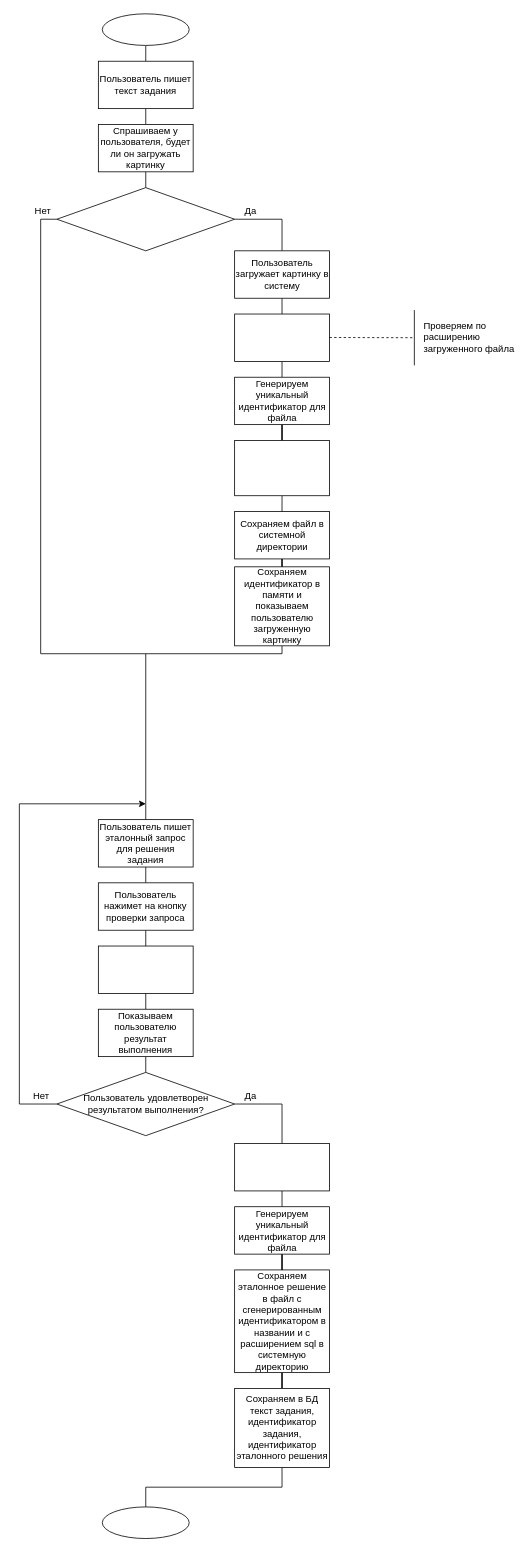
The diagram is 531 pixels wide and 1552 high, and some of its shapes have lost their labels. The box of each missing label's shape, as (x1, y1, x2, y2) in pixels:
Будет загружать картинку?: (56, 187, 235, 251)
Запускаем запрос на сервере: (98, 945, 193, 993)
Конец: (102, 1506, 189, 1539)
Начало: (102, 13, 189, 45)
Переименовываем изображение в сгенерированный уникальный идентификатор: (234, 440, 329, 496)
Пользователь нажимает на сохранение задания: (234, 1143, 329, 1191)
Проверяем, что загруженный файл действительно картинка: (234, 313, 329, 361)
